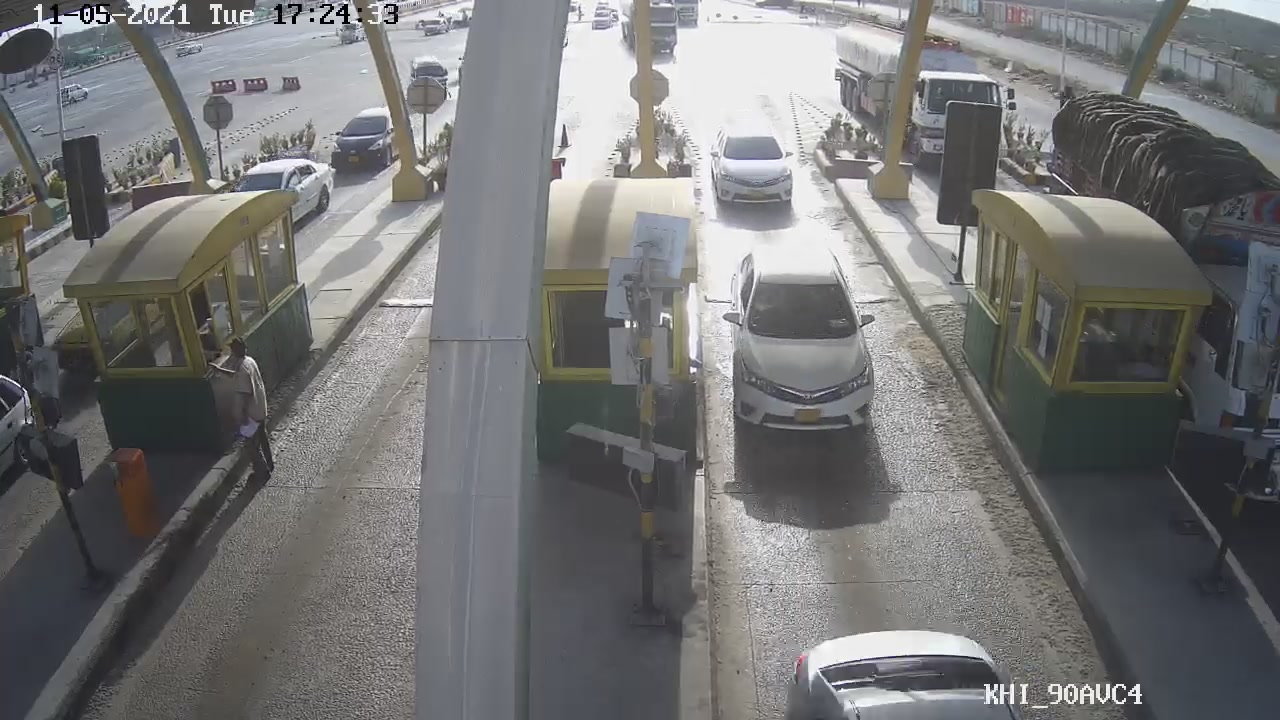F1: (722, 248, 888, 434)
